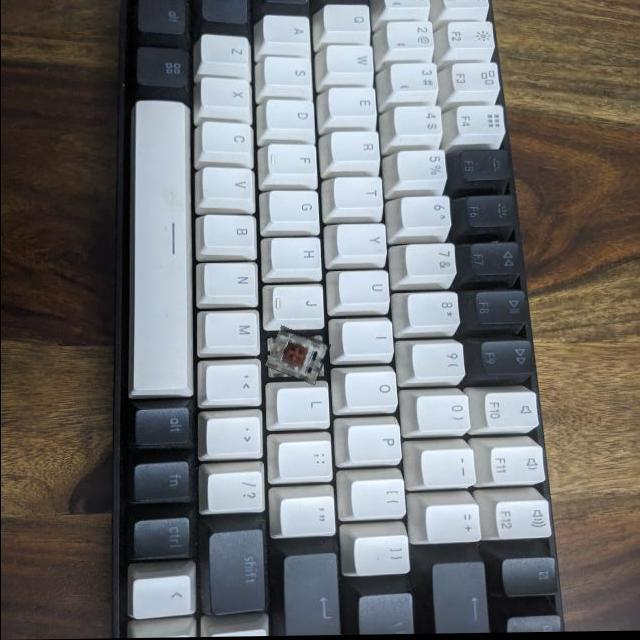key-switch: (267, 330, 327, 383)
